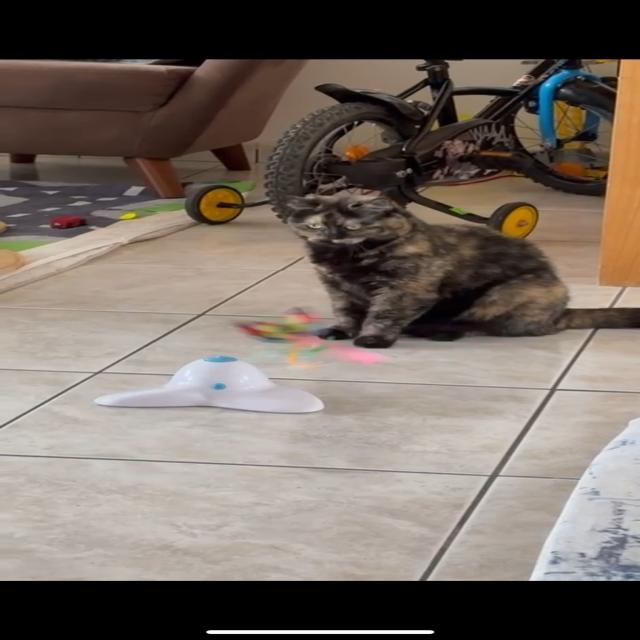authorized: (277, 189, 639, 349)
